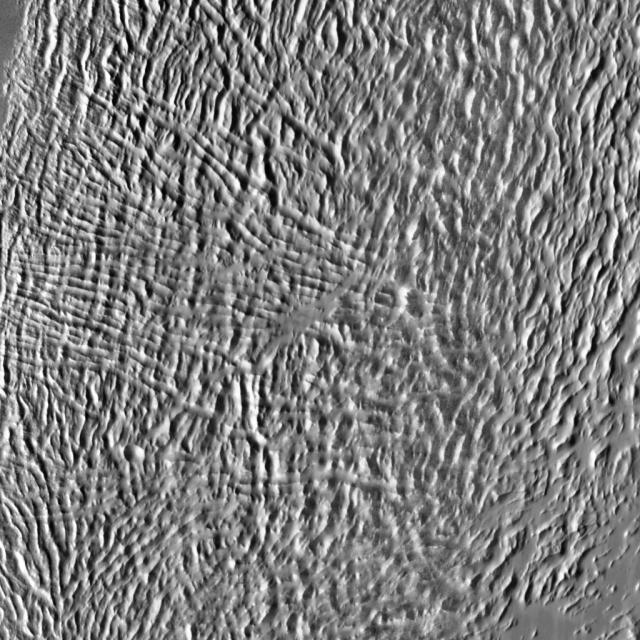crater: (132, 444, 151, 462)
